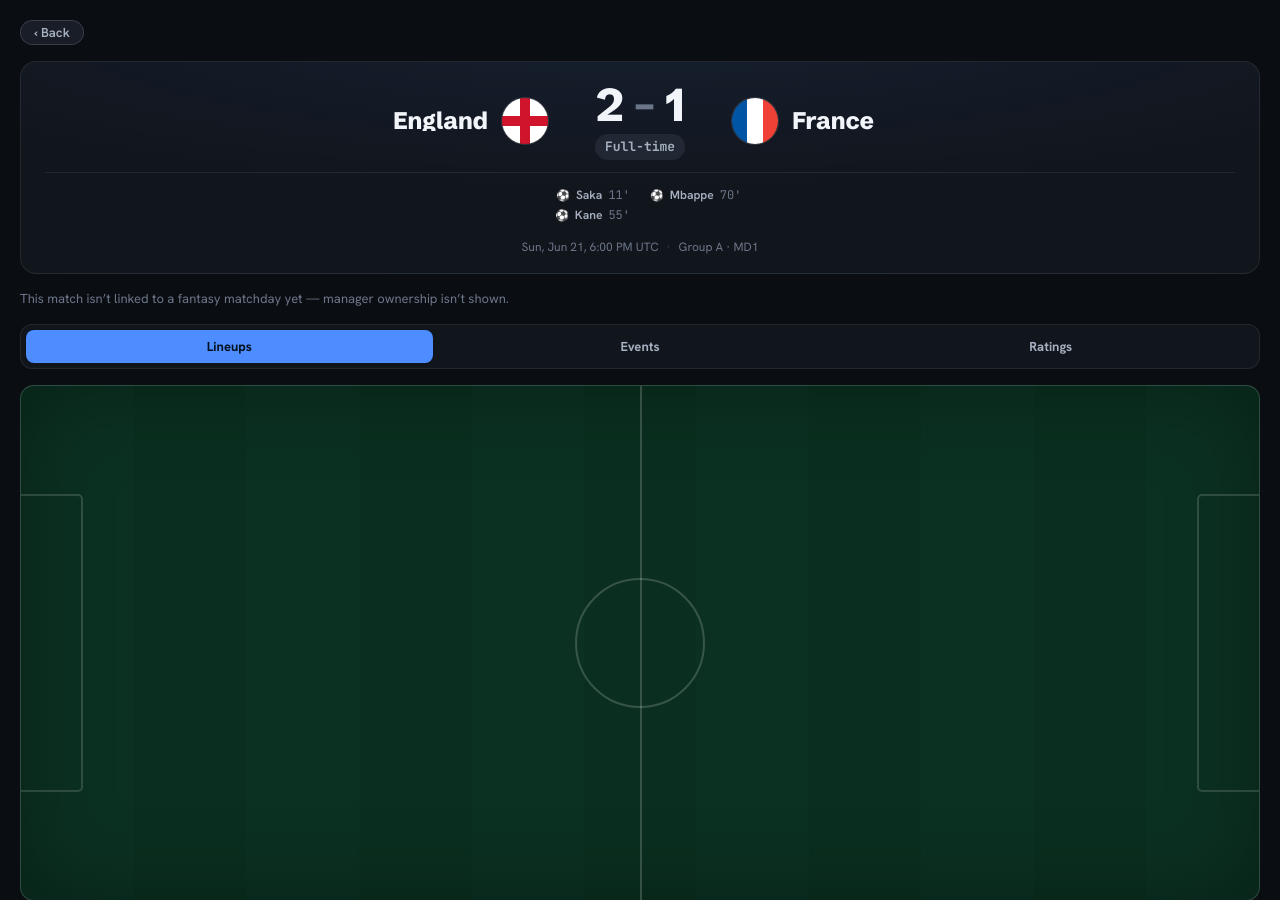
Test case: GameDetailClient — Events tab + scorers row (T16b render) › switches to the Events tab and shows the timeline (assist, PEN tag, latest-first markers, running score)
Click the tab "Events": (640, 346) x1=437 y1=330 x2=843 y2=363
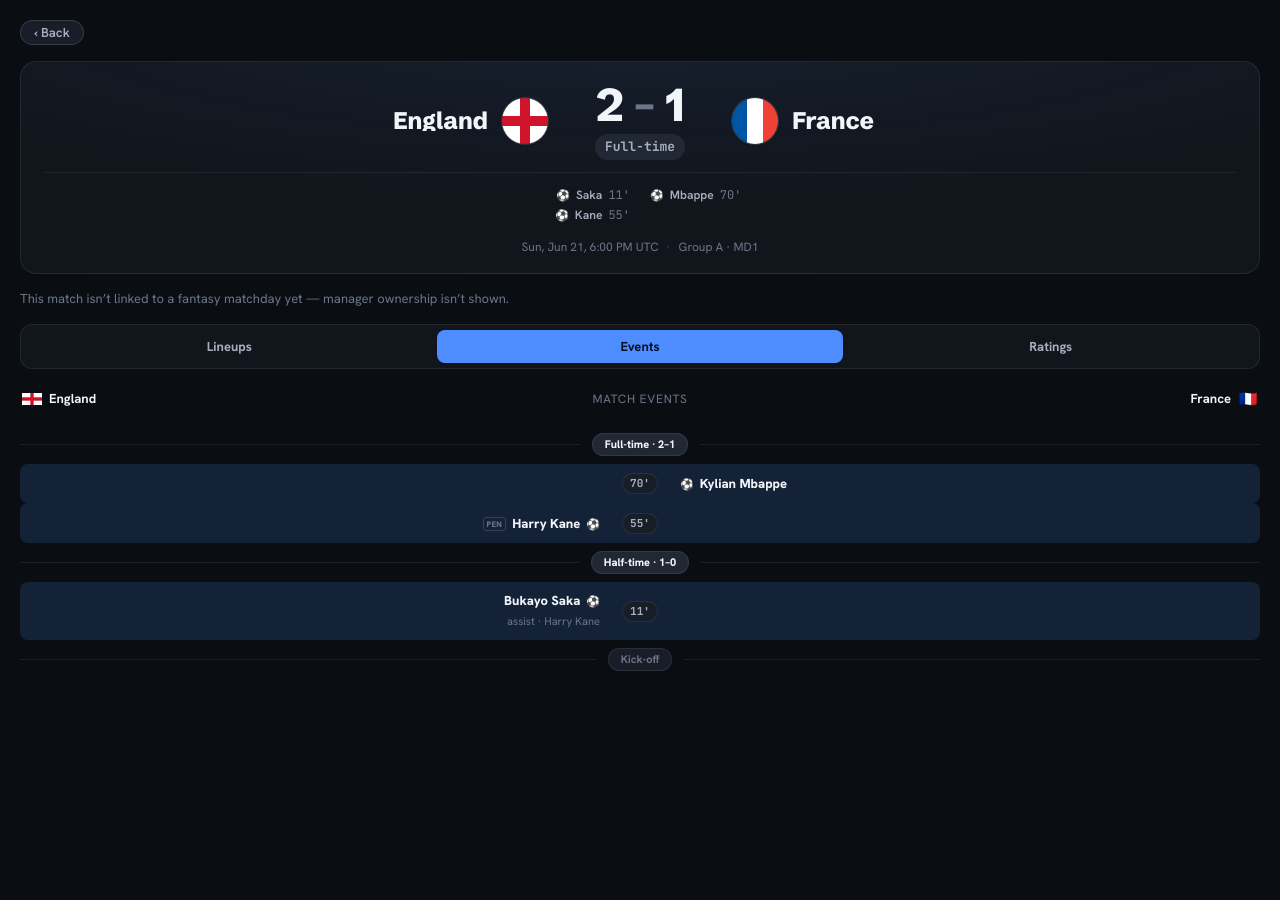
Result: the element with class "gd-timeline" is shown at x1=20 y1=425 x2=1260 y2=679
Result: the text "assist · Harry Kane" is shown at x1=504 y1=611 x2=600 y2=631
Result: the text "PEN" is shown at x1=483 y1=517 x2=506 y2=531
